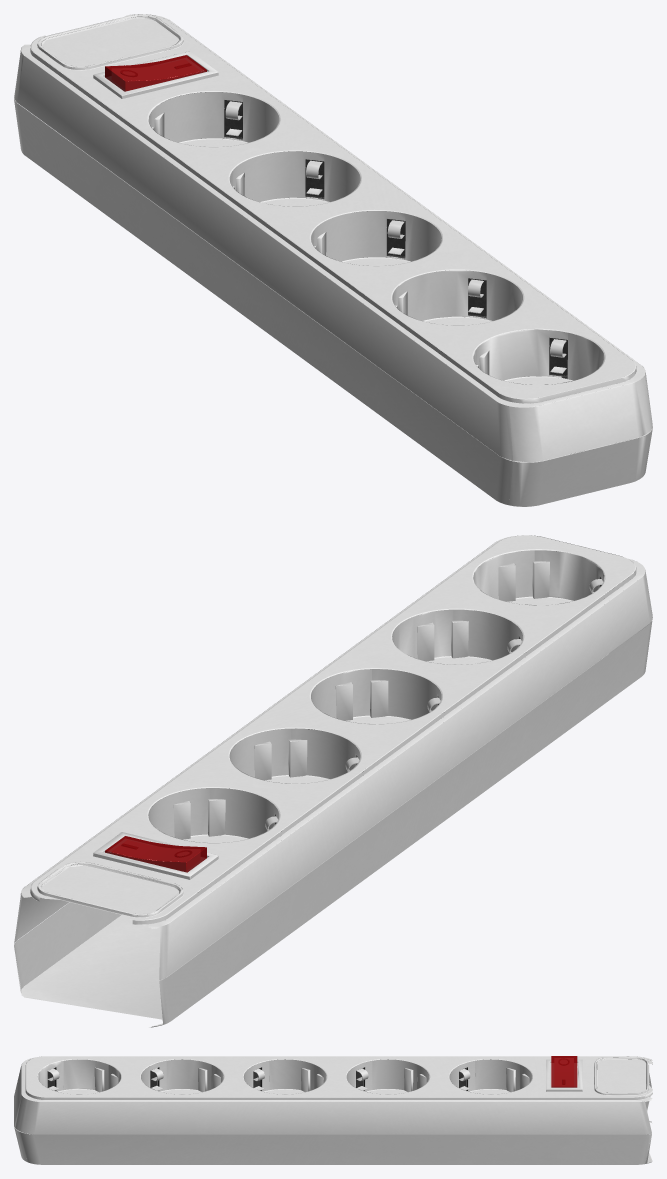
The model's file is PowerStrip.gltf.
3 views of the same model, one above another, from view 1: azimuth 30°, elevation 25°; view 2: azimuth 150°, elevation 25°; view 3: azimuth 270°, elevation 25° (orthographic). The views are drawn at different scales.
Visible parts, largest first — view 1: Circle.002, Circle; view 2: Circle.002, Circle; view 3: Circle.002, Circle.
Part boxes in pixels (x1,y1,x2,y2): Circle.002: (14, 14, 652, 506); Circle: (105, 55, 206, 91); Circle.002: (14, 535, 652, 1027); Circle: (105, 836, 206, 872); Circle.002: (14, 1056, 652, 1164); Circle: (551, 1056, 577, 1087).
Bounding box in the file's own units: 0.5475 × 0.4084 × 3.2.
Materials: 5 (2 with a texture image).
